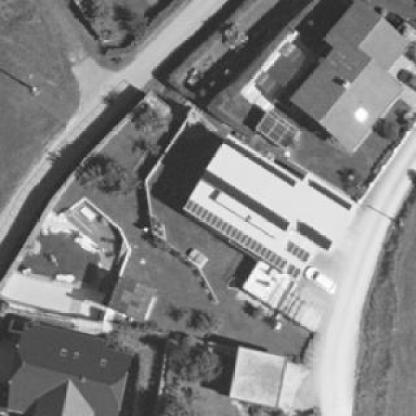solar-pv-panel: (183, 198, 302, 279), (200, 169, 290, 230), (223, 137, 298, 187), (309, 177, 354, 211), (298, 218, 333, 251), (284, 240, 312, 263)
